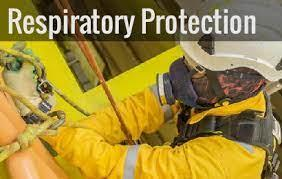gloves: (3, 41, 44, 117)
